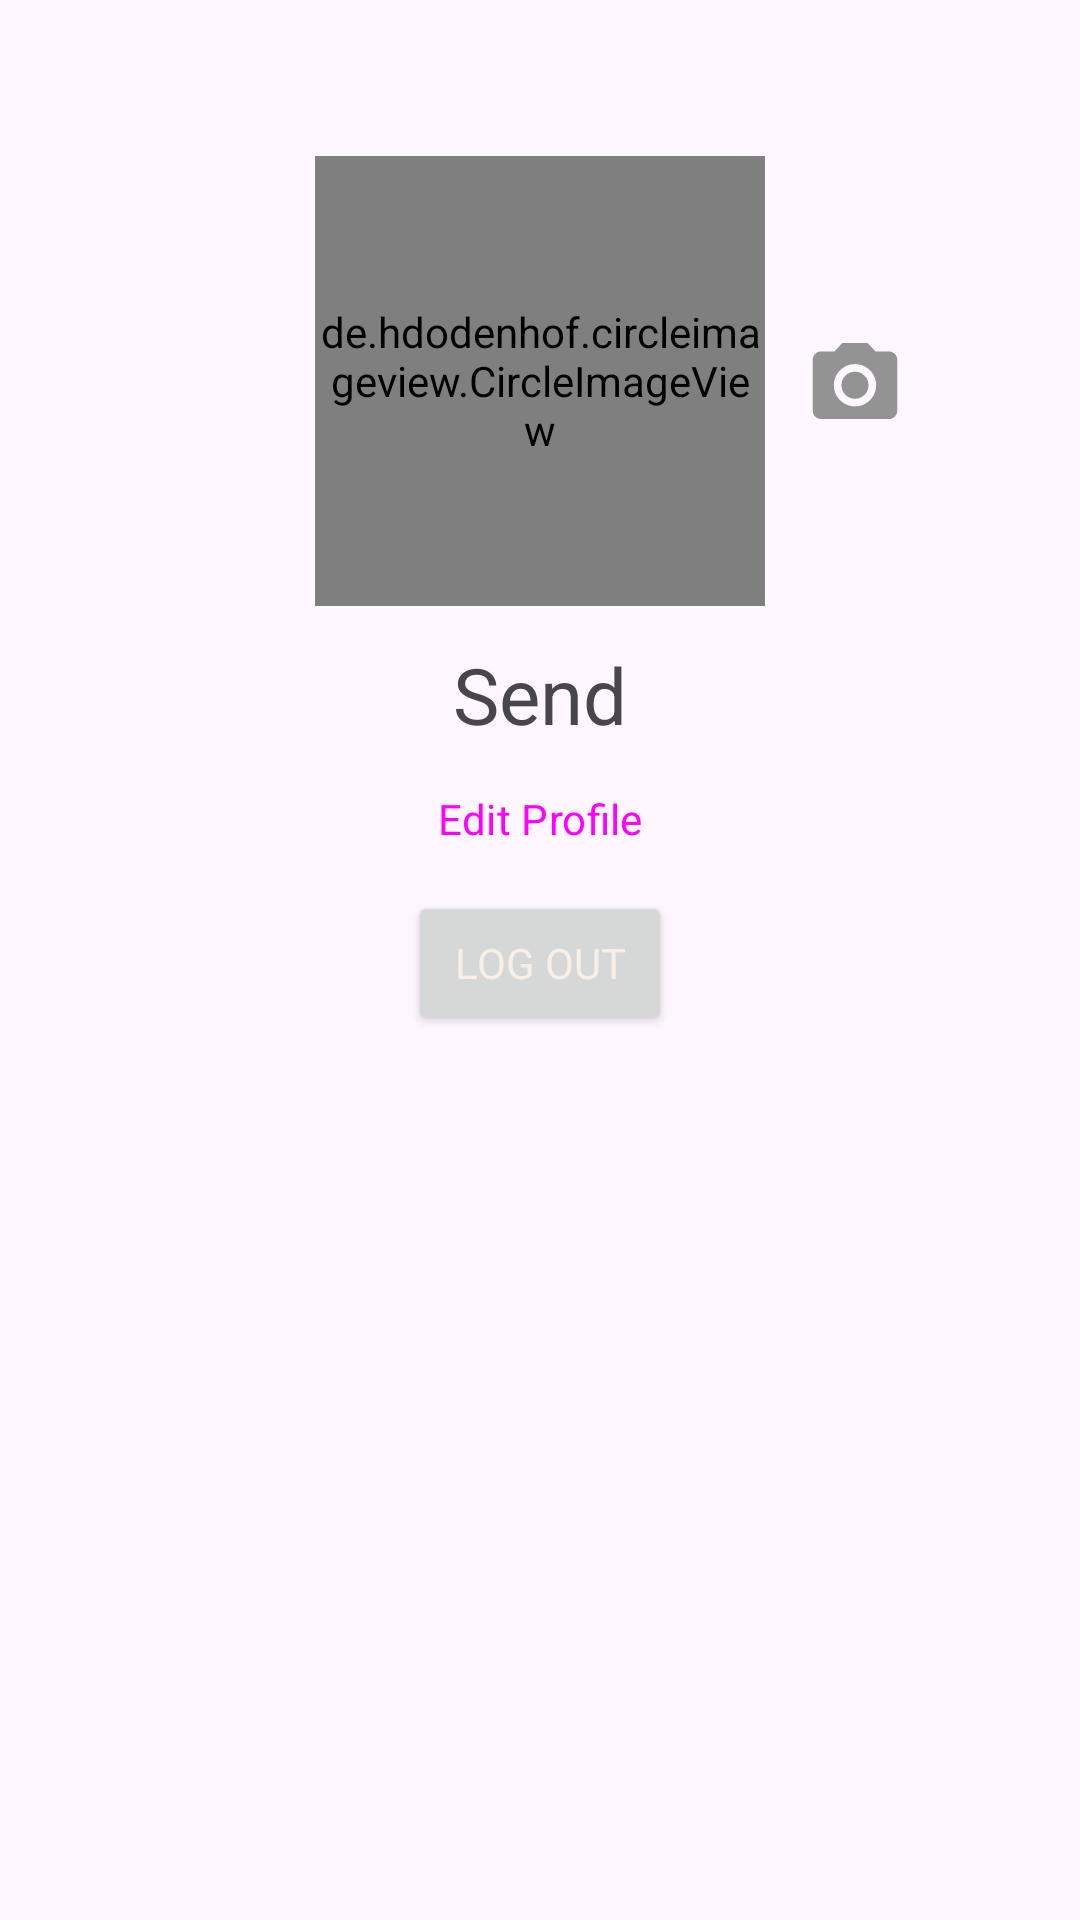

Where to tap for icons on this 1080*1920 app screen, as point (x, y):
camera: point (855, 381)
